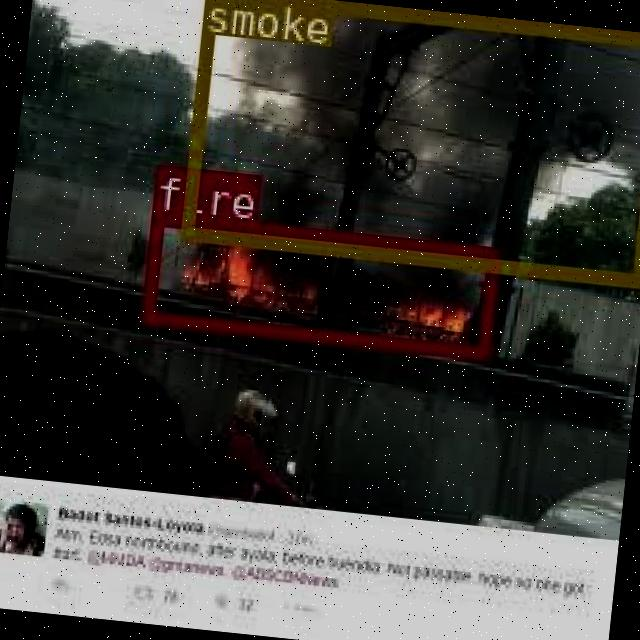fire: (140, 208, 499, 358)
smoke: (179, 0, 640, 283)
